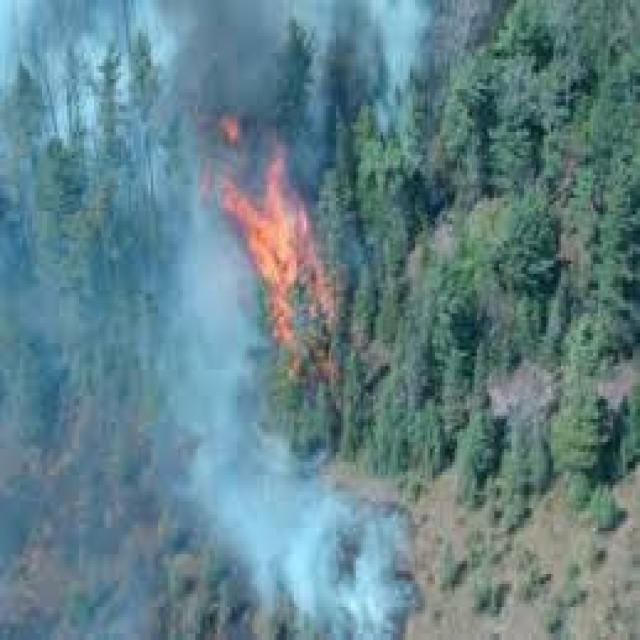Fire: (206, 100, 351, 367)
Smoke: (144, 200, 280, 546), (221, 444, 424, 634), (160, 1, 278, 118)
